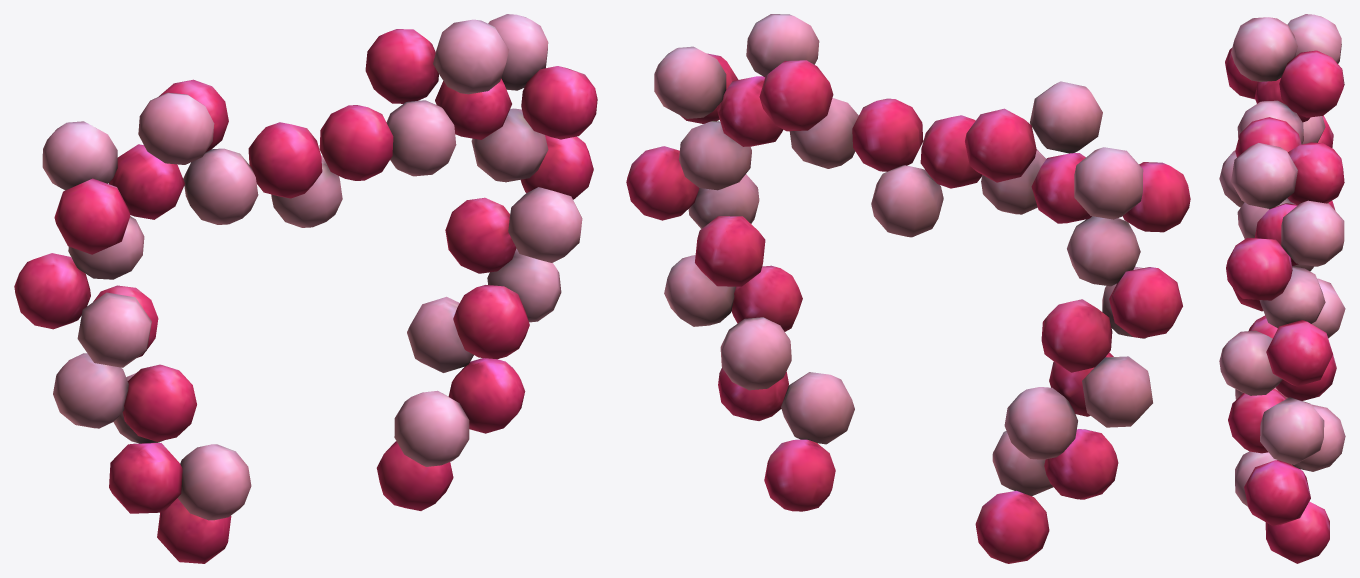
Rendered from GorillaTagBalloonHeart.fbx.
3 views of the same model, side by side, from view 1: azimuth 30°, elevation 25°; view 2: azimuth 150°, elevation 25°; view 3: azimuth 270°, elevation 25° (orthographic). The views are drawn at different scales.
Parts seen in each view (by area): view 1: BalloonArchway; view 2: BalloonArchway; view 3: BalloonArchway.
Part boxes in pixels (bbox=[...]): BalloonArchway: bbox=[14, 14, 597, 563]; BalloonArchway: bbox=[626, 14, 1190, 563]; BalloonArchway: bbox=[1219, 14, 1345, 563].
Bounding box in the file's own units: 477 × 393 × 105.
